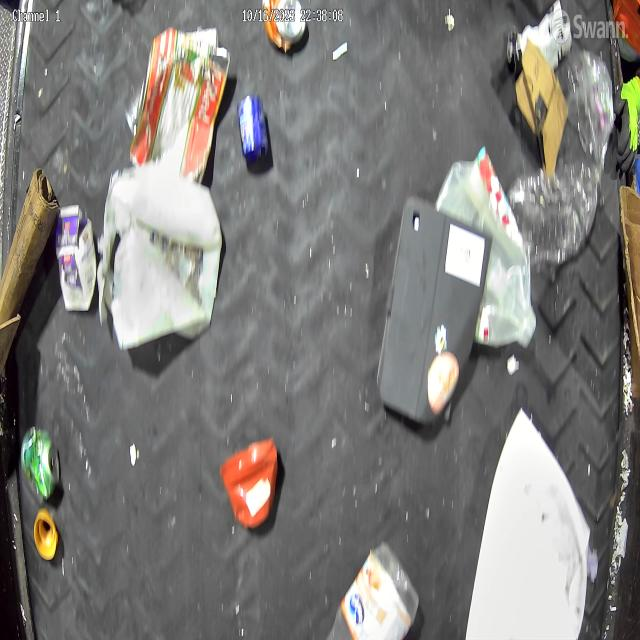can: (21, 426, 62, 502), (260, 0, 308, 54), (237, 93, 269, 162)
milk_jug: (109, 162, 223, 350), (434, 150, 537, 348)
plastic_bottle: (507, 162, 601, 270), (567, 50, 617, 165)
